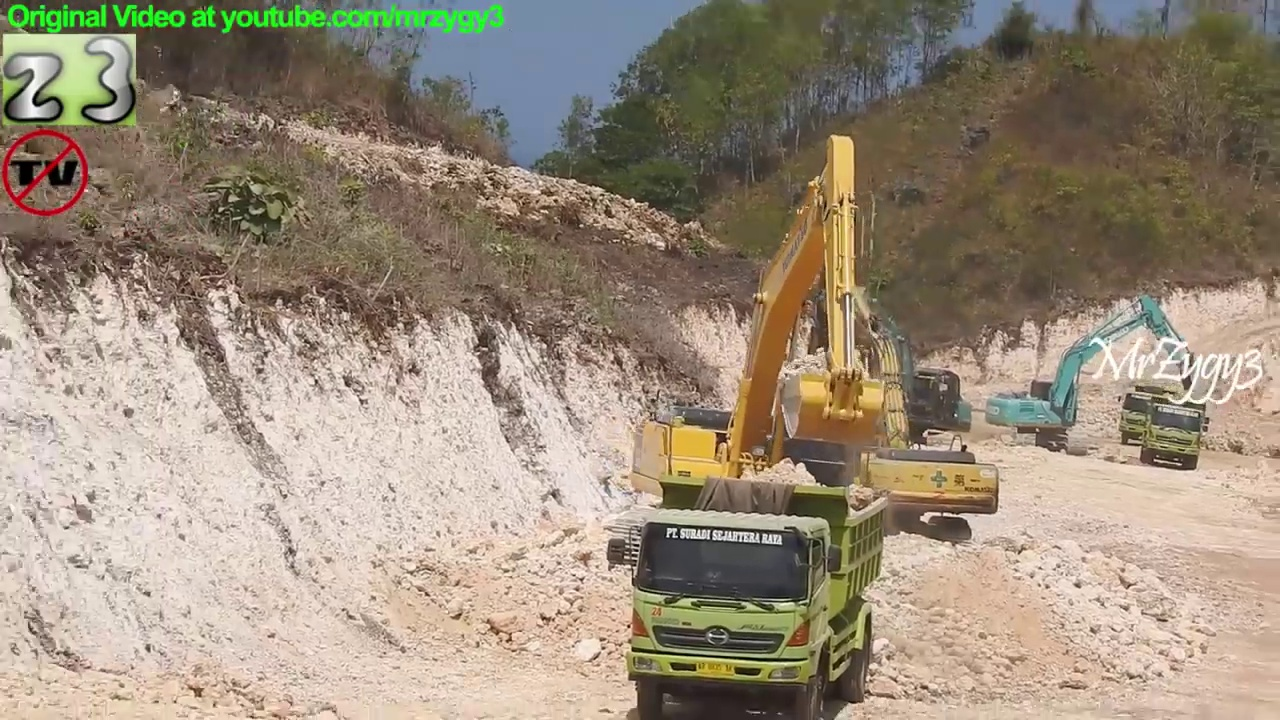excavator: (613, 130, 899, 575), (767, 274, 1007, 552), (979, 290, 1216, 459), (803, 286, 982, 483)
truck: (606, 471, 891, 720), (1134, 395, 1213, 474), (1115, 381, 1191, 451)
